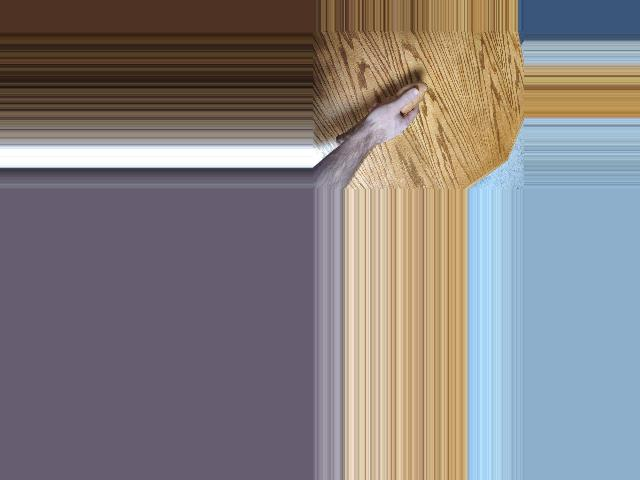sweet_potato: (334, 79, 429, 143)
